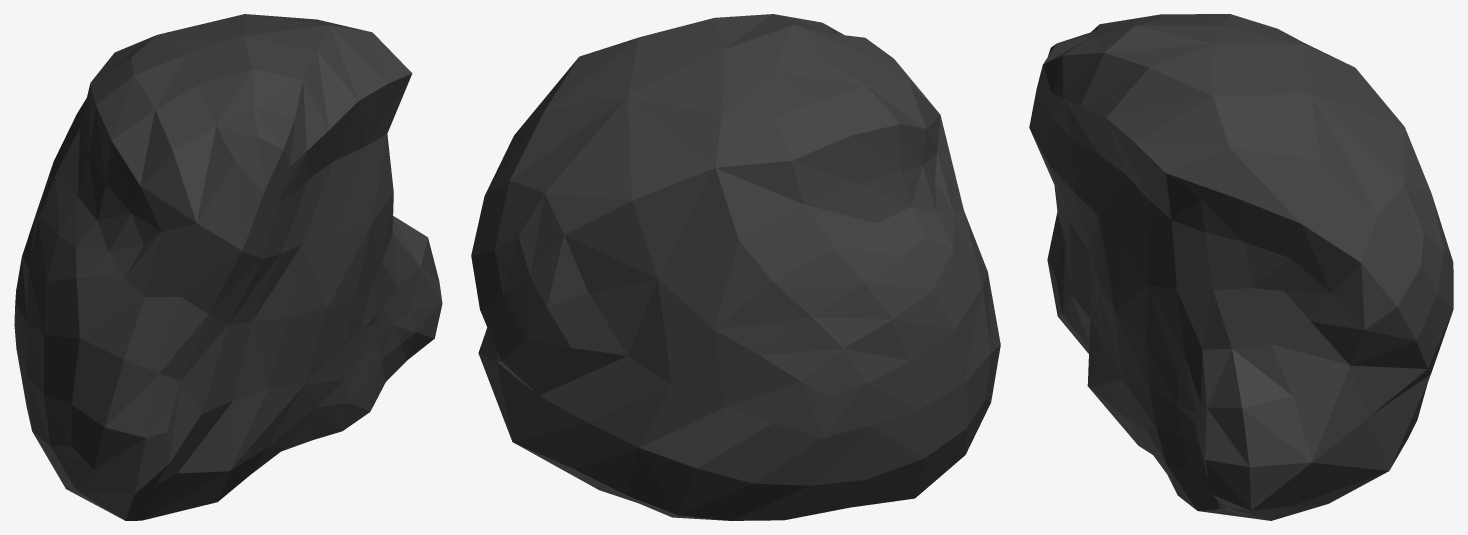
Rendered from 2nd_carpal_L.glb.
The picture shows the model from 3 angles, left to right: view 1: azimuth 30°, elevation 25°; view 2: azimuth 150°, elevation 25°; view 3: azimuth 270°, elevation 25°; orthographic projection. The views are drawn at different scales.
Parts seen in each view (by area): view 1: 2nd_carpal_L; view 2: 2nd_carpal_L; view 3: 2nd_carpal_L.
Part boxes in pixels (x1,y1,x2,y2): 2nd_carpal_L: (14,14,442,520); 2nd_carpal_L: (471,14,1000,520); 2nd_carpal_L: (1029,14,1453,520).
Size of the model in its own units: 0.0371 by 0.0355 by 0.031.
1 material, 1 textured.
